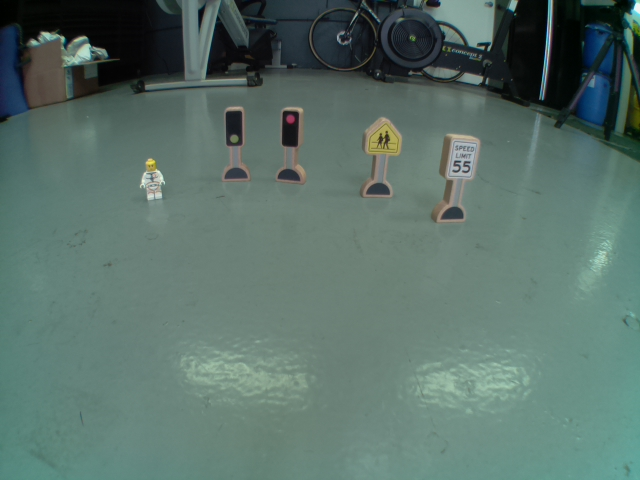Green Traffic Light: (221, 101, 248, 149)
Red Traffic Light: (276, 106, 302, 149)
Speed Limit 55: (445, 132, 477, 181)
YIELD: (362, 115, 402, 157)
person: (134, 155, 172, 202)
